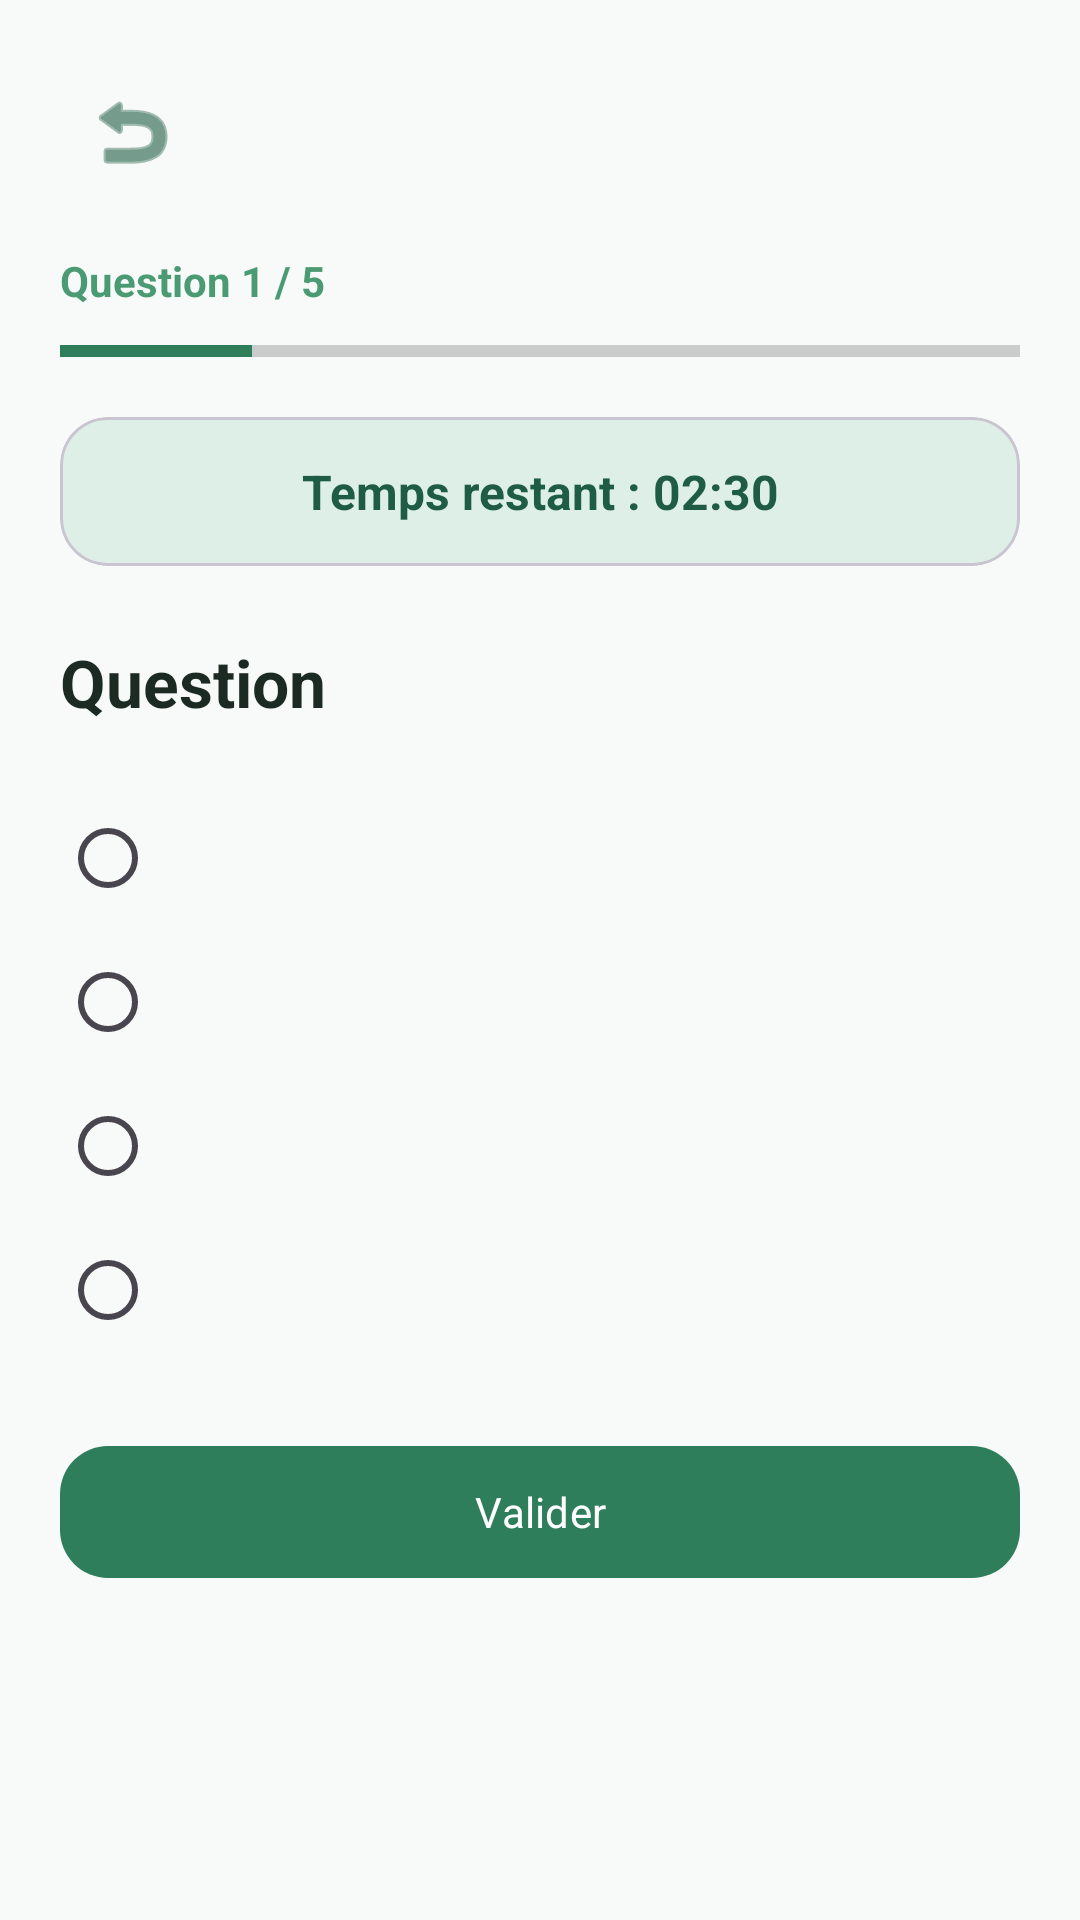

Icon click points for this 1080*1920 phone screenshot, format point (x, y):
Retour: point (133, 132)
